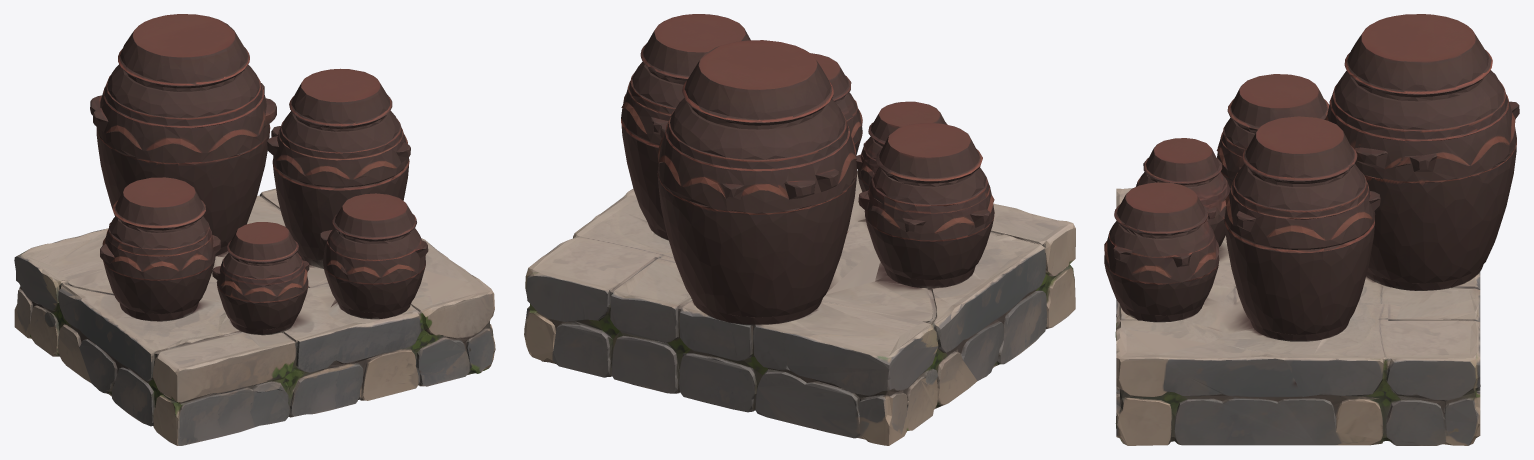
Rendered from jangdok_set.glb.
The picture shows the model from 3 angles, left to right: view 1: azimuth 30°, elevation 25°; view 2: azimuth 150°, elevation 25°; view 3: azimuth 270°, elevation 25°; orthographic projection. The views are drawn at different scales.
Visible parts, largest first — view 1: jangdok_set; view 2: jangdok_set; view 3: jangdok_set.
Part boxes in pixels (<box>): jangdok_set: <box>14,14,495,445</box>; jangdok_set: <box>524,14,1075,445</box>; jangdok_set: <box>1104,14,1519,445</box>.
Size of the model in its own units: 0.9576 by 0.8 by 0.9608.
Materials: 1 (1 with a texture image).
